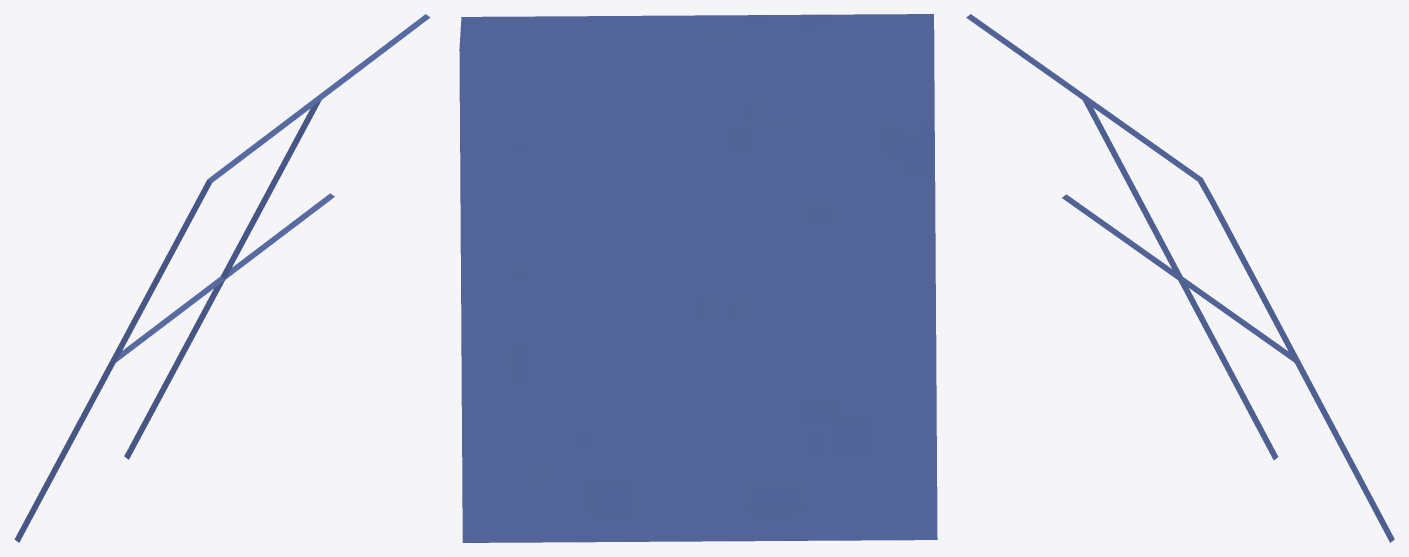
The picture shows the model from 3 angles, left to right: view 1: azimuth 30°, elevation 25°; view 2: azimuth 150°, elevation 25°; view 3: azimuth 270°, elevation 25°; orthographic projection. The views are drawn at different scales.
Size of the model in its own units: 19686 by 17687 by 16710.
1 material, 1 textured.
